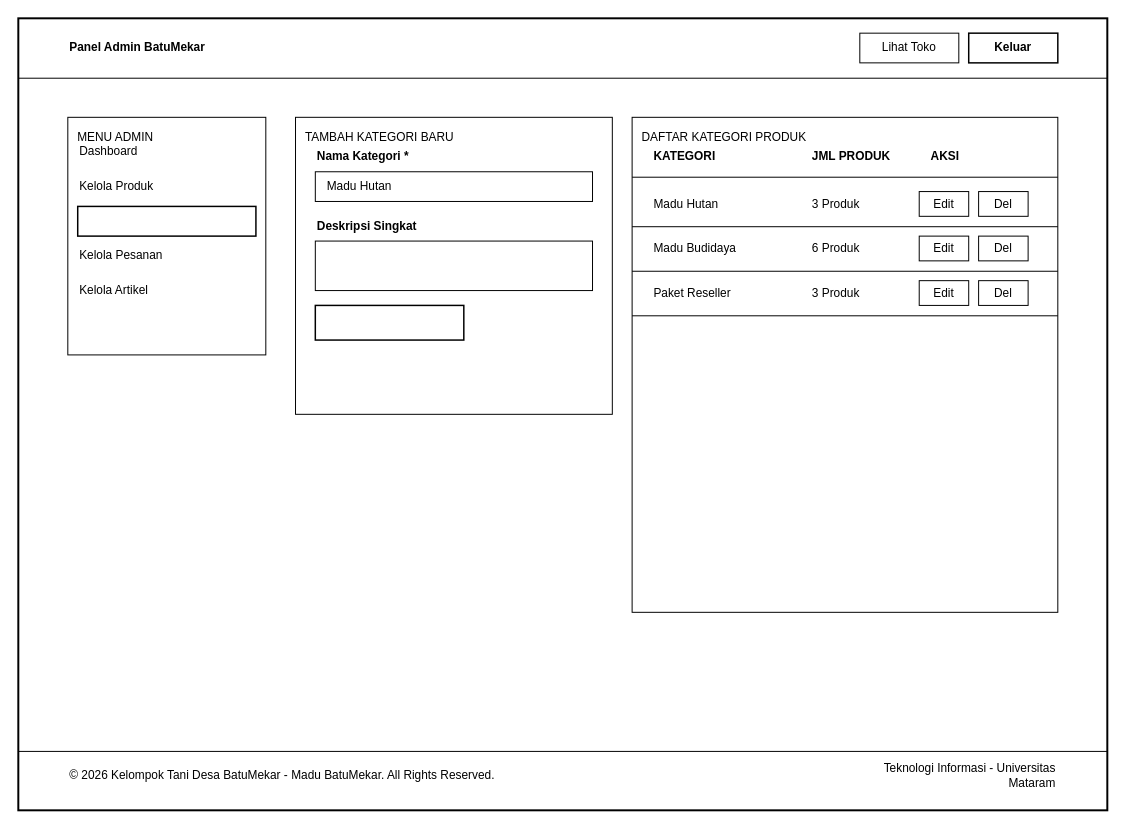
Image size: 1125x828. Some labels were removed from this diagram. Each missing label, with the centre of its shape:
"Kelola Kategori" belongs at point 166,220.
"Madu yang dipanen liar dari hutan rimba" belongs at point 453,265.
"Tambah Kategori" belongs at point 389,322.
